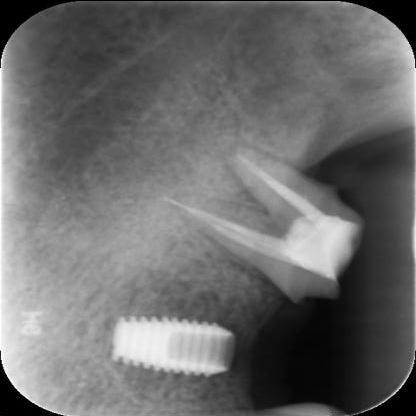Bicon: (111, 318, 236, 373)
